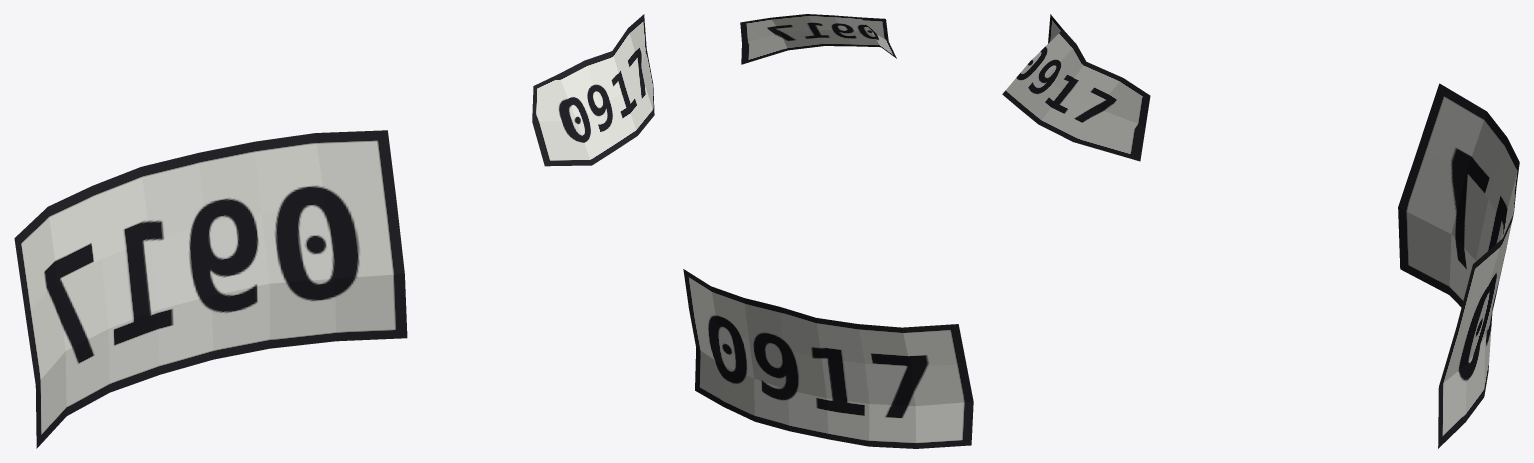
Rendered from SM_Helena2_PrisonAccessories.fbx.
3 views of the same model, side by side, from view 1: azimuth 30°, elevation 25°; view 2: azimuth 150°, elevation 25°; view 3: azimuth 270°, elevation 25° (orthographic). The views are drawn at different scales.
Parts seen in each view (by area): view 1: PrisonBack, PrisonTag; view 2: PrisonBack, PrisonTag; view 3: PrisonBack, PrisonTag.
Boxes of the visible parts, bbox=[...] form: PrisonBack: bbox=[14, 130, 407, 448]; PrisonTag: bbox=[532, 14, 654, 166]; PrisonBack: bbox=[683, 269, 973, 448]; PrisonTag: bbox=[740, 14, 896, 64]; PrisonBack: bbox=[1398, 83, 1519, 448]; PrisonTag: bbox=[1002, 14, 1150, 161].
Size of the model in its own units: 0.254 by 0.213 by 0.2501.
1 material, 1 textured.
